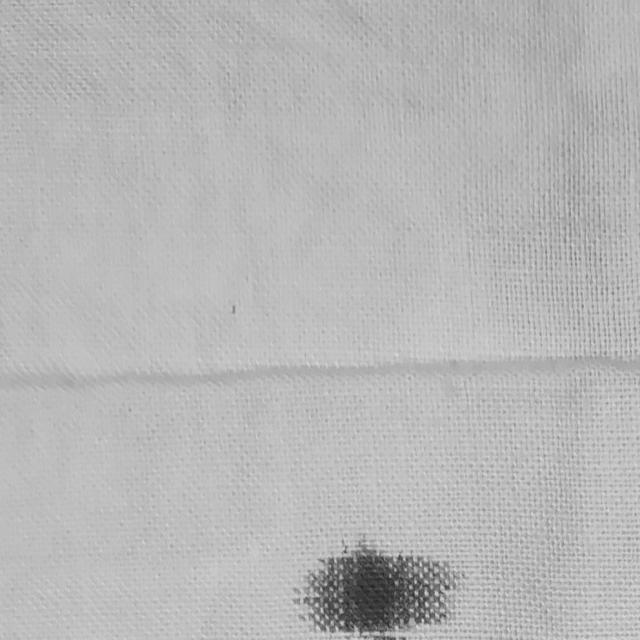Stain: (296, 542, 454, 640)
